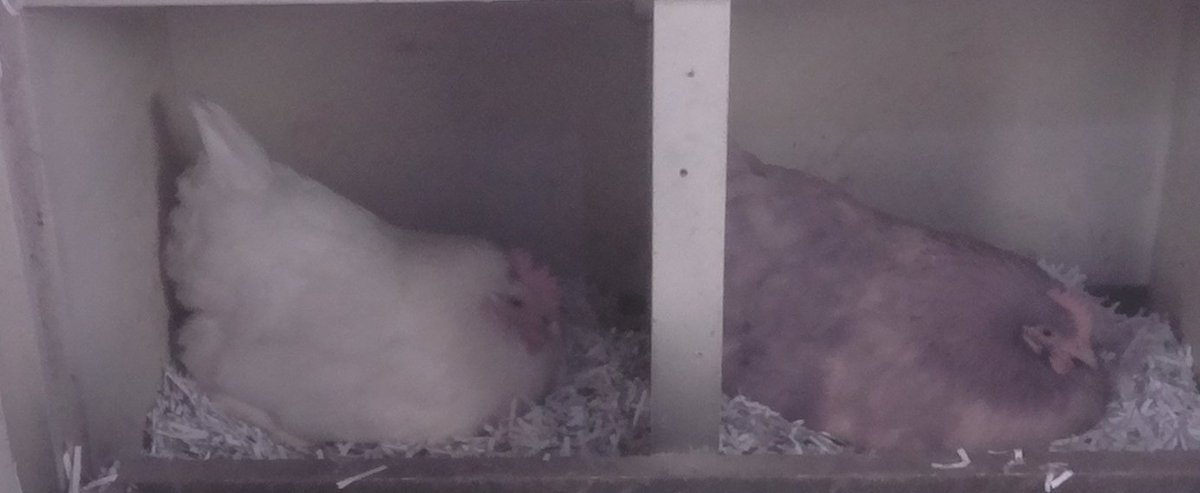hen: (166, 94, 577, 455), (730, 141, 1112, 451)
